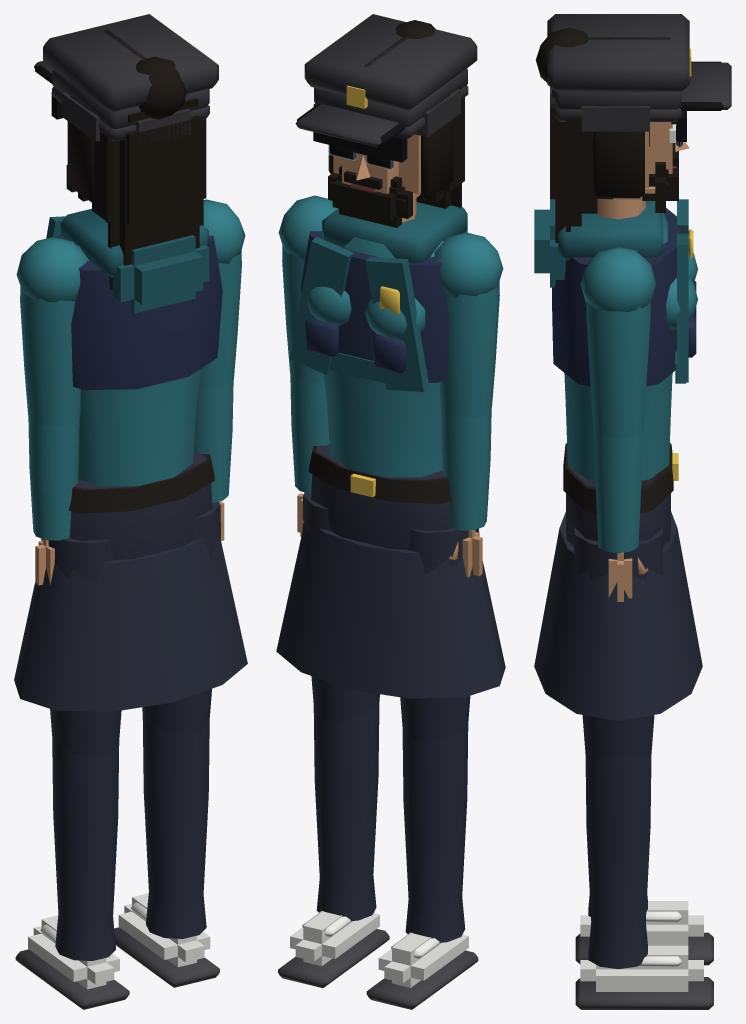
Rendered from kit_f.glb.
3 views of the same model, side by side, from view 1: azimuth 30°, elevation 25°; view 2: azimuth 150°, elevation 25°; view 3: azimuth 270°, elevation 25° (orthographic). The views are drawn at different scales.
Parts seen in each view (by area): view 1: KF__X_hips_skirt, KF__X_chest_vest, KF__M_knee_l, KF__M_knee_r, KF__X_head_hair2, KF__X_head_hat3, KF__M_spine, KF__M_hips, KF__M_shoulder_l, KF__M_chest, KF__X_chest_hood, KF__M_elbow_l (+12 smaller); view 2: KF__X_hips_skirt, KF__X_head_hat3, KF__X_chest_jacket, KF__M_knee_l, KF__M_knee_r, KF__M_spine, KF__M_hips, KF__M_chest, KF__X_chest_vest, KF__M_shoulder_l, KF__M_ankle_l, KF__M_ankle_r (+14 smaller); view 3: KF__X_hips_skirt, KF__M_knee_r, KF__X_head_hat3, KF__X_chest_vest, KF__M_shoulder_r, KF__M_ankle_r, KF__X_head_hair2, KF__X_chest_jacket, KF__M_elbow_r, KF__M_thigh_r, KF__M_spine, KF__M_chest (+12 smaller).
Part boxes in pixels (x1,y1,x2,y2): KF__X_hips_skirt: (14,533,247,711); KF__X_chest_vest: (55,234,222,390); KF__M_knee_l: (52,737,119,960); KF__M_knee_r: (142,714,209,938); KF__X_head_hair2: (67,95,206,224); KF__X_head_hat3: (35,14,218,128); KF__M_spine: (78,369,201,486); KF__M_hips: (69,452,214,560); KF__M_shoulder_l: (20,286,80,426); KF__M_chest: (16,199,245,302); KF__X_chest_hood: (113,235,209,313); KF__M_elbow_l: (28,416,79,540); KF__X_hips_skirt: (276,524,505,698); KF__X_head_hat3: (297,14,477,144); KF__X_chest_jacket: (290,202,467,392); KF__M_knee_l: (402,723,468,942); KF__M_knee_r: (313,702,379,920); KF__M_spine: (323,371,442,477); KF__M_hips: (308,444,451,549); KF__M_chest: (278,195,503,338); KF__X_chest_vest: (301,231,449,382); KF__M_shoulder_l: (440,281,499,418); KF__M_ankle_l: (366,932,478,1009); KF__M_ankle_r: (278,911,389,987); KF__X_hips_skirt: (534,511,702,720); KF__M_knee_r: (585,754,651,968); KF__X_head_hat3: (547,14,723,110); KF__X_chest_vest: (552,208,696,386); KF__M_shoulder_r: (586,301,650,438); KF__M_ankle_r: (575,945,713,1009); KF__X_head_hair2: (550,89,644,213); KF__X_chest_jacket: (558,199,688,383); KF__M_elbow_r: (594,431,642,553); KF__M_thigh_r: (573,527,663,757); KF__M_spine: (564,373,672,480); KF__M_chest: (580,213,697,329).
Bounding box in the file's own units: 0.49 × 1.98 × 0.375.
